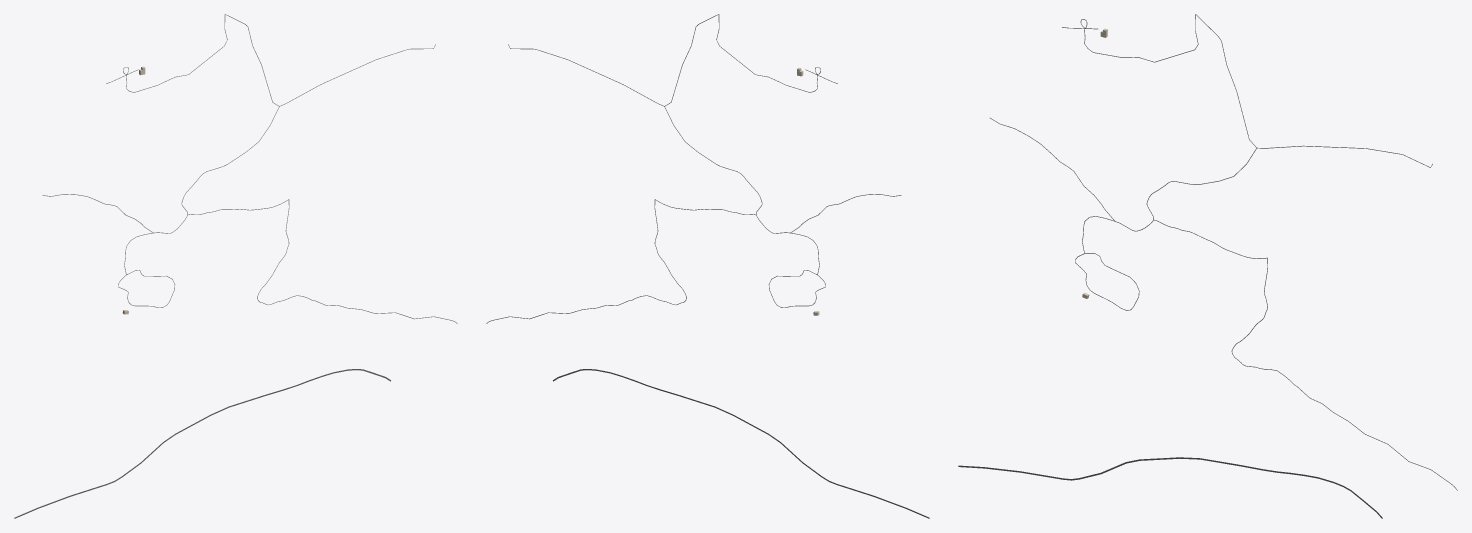
File: historic-palestine-11_25_3525_3193.glb
3 views of the same model, side by side, from view 1: azimuth 30°, elevation 25°; view 2: azimuth 150°, elevation 25°; view 3: azimuth 330°, elevation 25° (orthographic). The views are drawn at different scales.
Visible parts, largest first — view 1: Road .002; view 2: Road .002; view 3: Road .002.
Part boxes in pixels (left/top/right/bottom): Road .002: left=14, top=369, right=390, bottom=518; Road .002: left=553, top=369, right=929, bottom=518; Road .002: left=958, top=457, right=1382, bottom=518.
Size of the model in its own units: 1148 by 1122 by 8.7.
